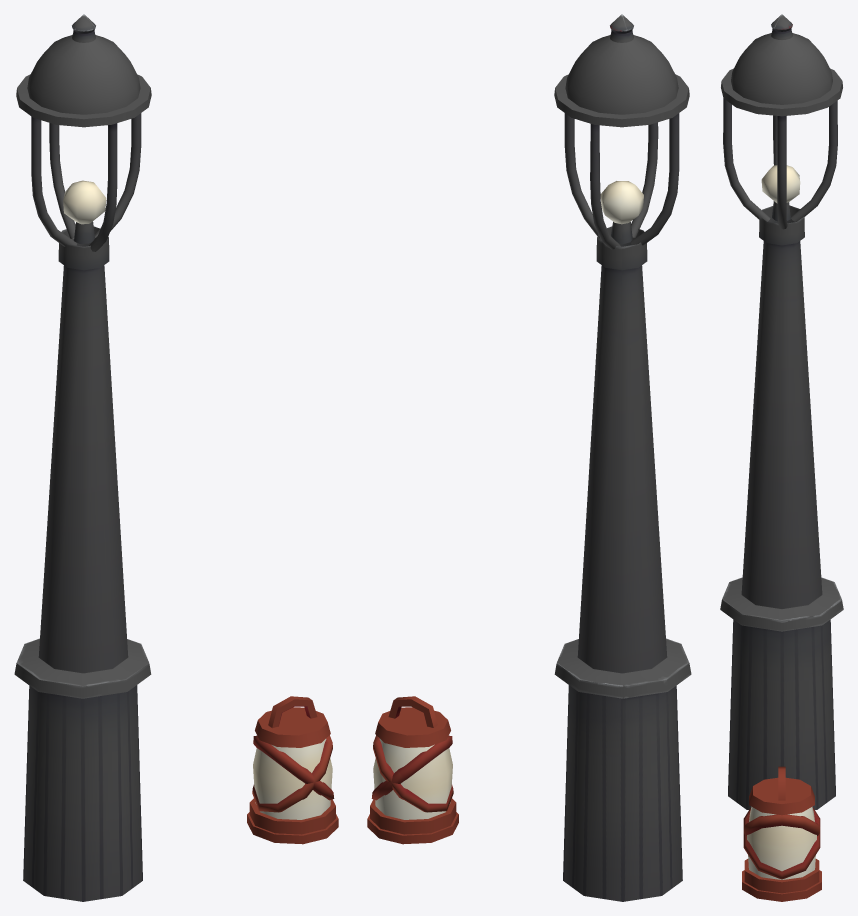
Rendered from grp_all_Farolas.fbx.
3 views of the same model, side by side, from view 1: azimuth 30°, elevation 25°; view 2: azimuth 150°, elevation 25°; view 3: azimuth 270°, elevation 25° (orthographic). The views are drawn at different scales.
Parts seen in each view (by area): view 1: Arte_3d_obj_Farola1, lampara2; view 2: Arte_3d_obj_Farola1, lampara2; view 3: Arte_3d_obj_Farola1, lampara2.
Part boxes in pixels (box(x1,y1,x2,y2)): Arte_3d_obj_Farola1: box(14, 14, 151, 901); lampara2: box(247, 696, 338, 844); Arte_3d_obj_Farola1: box(554, 14, 691, 901); lampara2: box(367, 696, 458, 844); Arte_3d_obj_Farola1: box(720, 14, 843, 809); lampara2: box(742, 766, 821, 901).
Bounding box in the file's own units: 2094 × 5631 × 810.
Materials: 1 (1 with a texture image).
